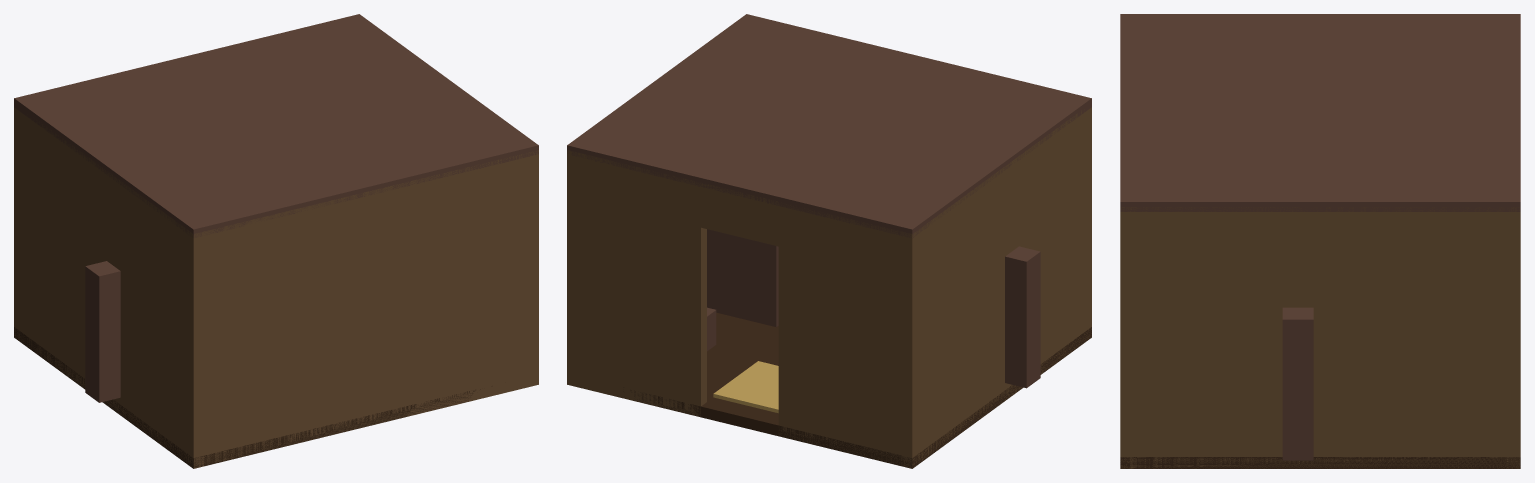
Rendered from shop.glb.
3 views of the same model, side by side, from view 1: azimuth 30°, elevation 25°; view 2: azimuth 150°, elevation 25°; view 3: azimuth 270°, elevation 25° (orthographic). The views are drawn at different scales.
Parts seen in each view (by area): view 1: wall_north, ceiling, wall_west, furniture_shelf, floor; view 2: ceiling, wall_west, wall_south_r, wall_south_l, floor, furniture_shelf_2, furniture_shelf, wall_south_lintel, interior_exit_pad, wall_east; view 3: wall_east, ceiling, furniture_shelf_2, floor, wall_north, wall_south_r.
Part boxes in pixels (box(x1,y1,x2,y2)): wall_north: box(187, 150, 538, 468); ceiling: box(14, 14, 538, 237); wall_west: box(14, 107, 203, 468); furniture_shelf: box(85, 261, 120, 402); floor: box(14, 327, 492, 468); ceiling: box(567, 14, 1091, 238); wall_west: box(902, 107, 1091, 468); wall_south_r: box(567, 150, 706, 416); wall_south_l: box(778, 202, 916, 467); floor: box(623, 312, 1091, 468); furniture_shelf_2: box(707, 229, 778, 326); furniture_shelf: box(1005, 246, 1040, 388); wall_south_lintel: box(701, 183, 778, 246); interior_exit_pad: box(713, 361, 778, 413); wall_east: box(567, 150, 577, 308); wall_east: box(1120, 207, 1520, 468); ceiling: box(1120, 14, 1520, 211); furniture_shelf_2: box(1282, 307, 1313, 460); floor: box(1120, 457, 1520, 468); wall_north: box(1120, 207, 1133, 468); wall_south_r: box(1507, 207, 1520, 468).
Bounding box in the file's own units: 4.5 × 2.65 × 3.6.
